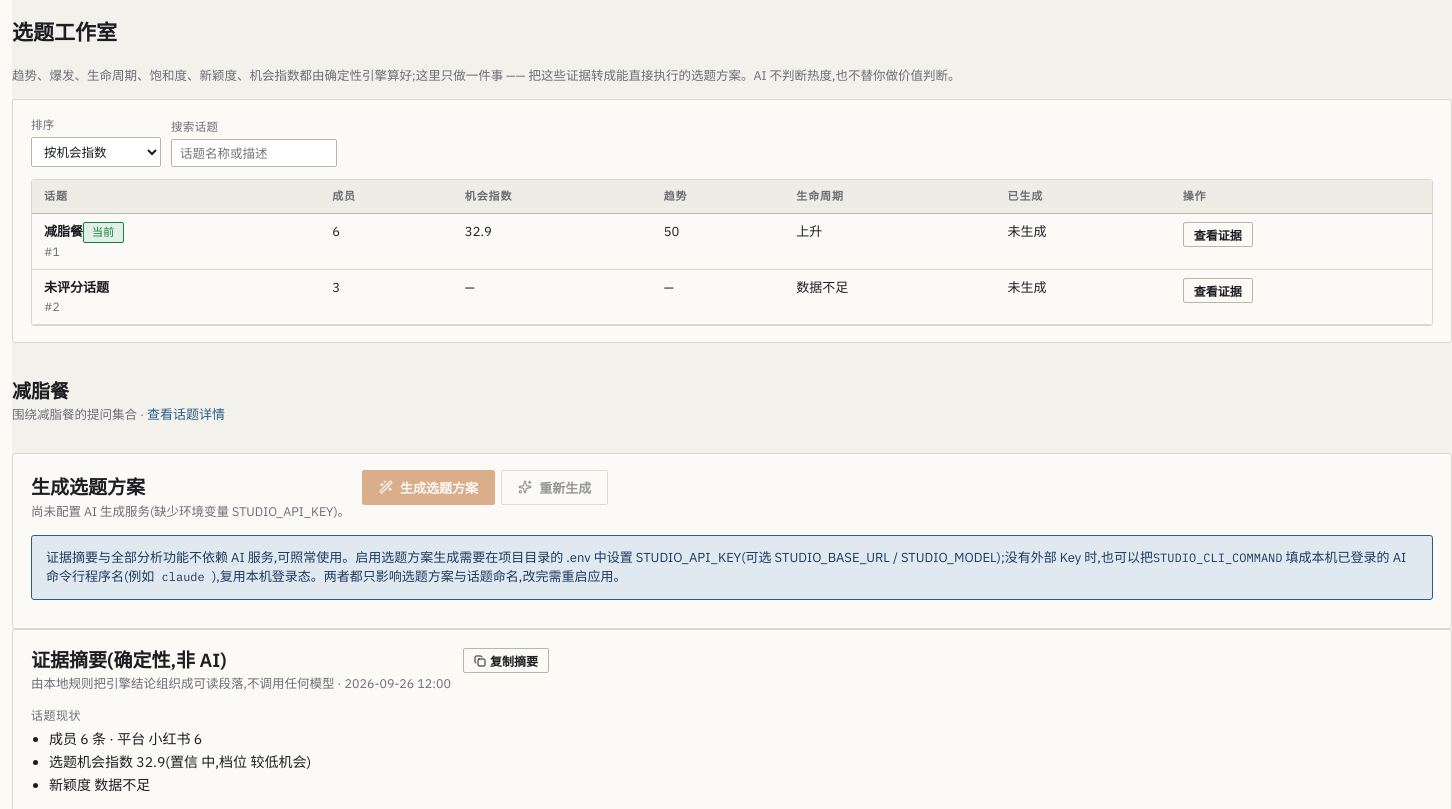
Test: 选题工作室:复制按钮必须给出结果反馈(§67 死按钮) › 剪贴板可用时显示已复制
The image size is (1452, 809).
Click the button "复制摘要" at [506, 661], box [463,648,549,673]
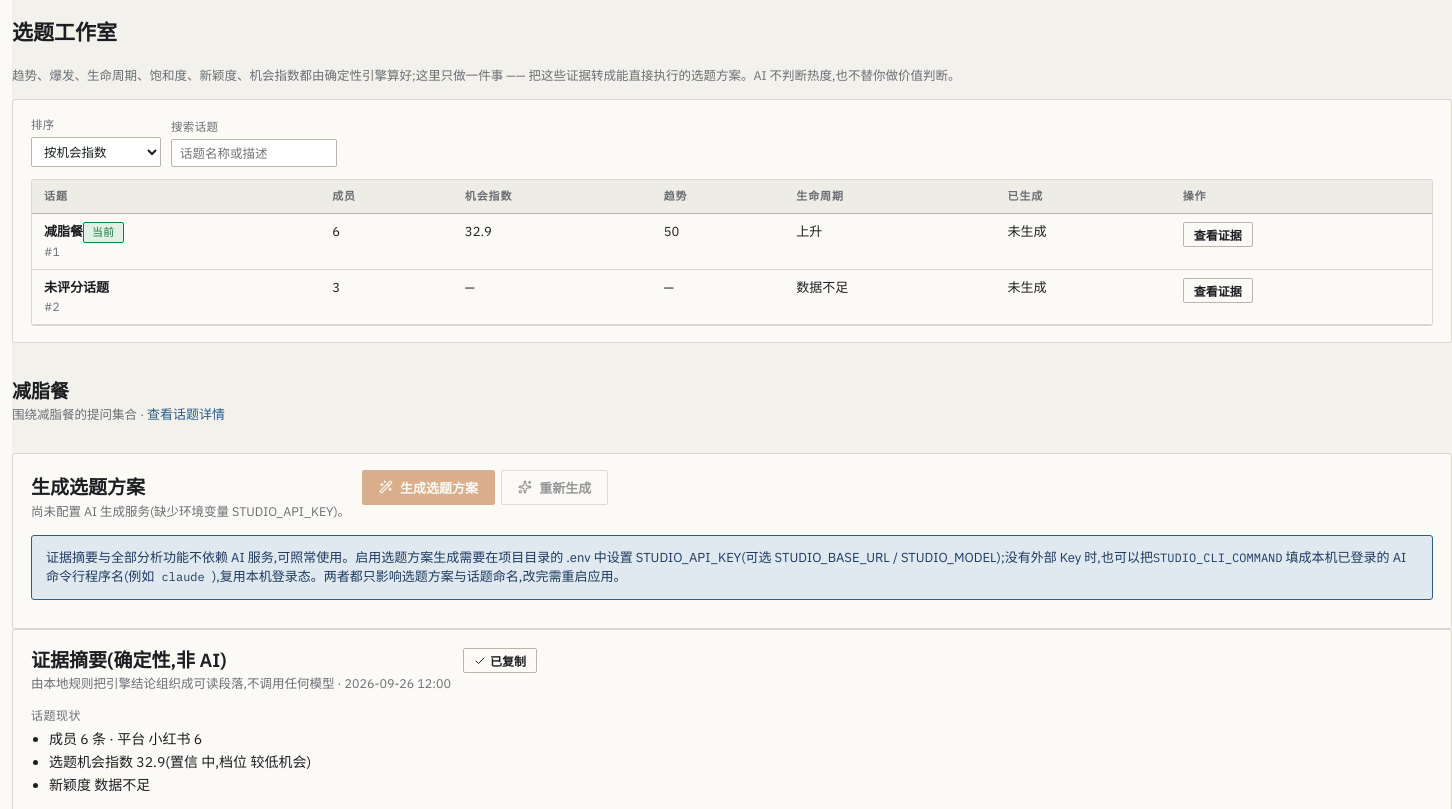
Now the text "已复制" is shown, box [463,648,537,673]
